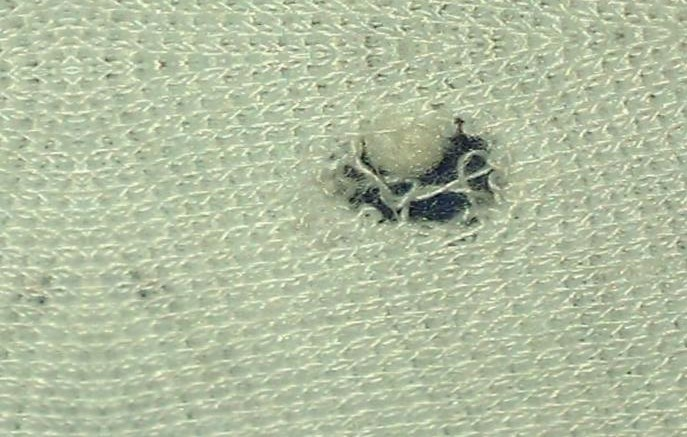hole: (352, 100, 472, 191)
